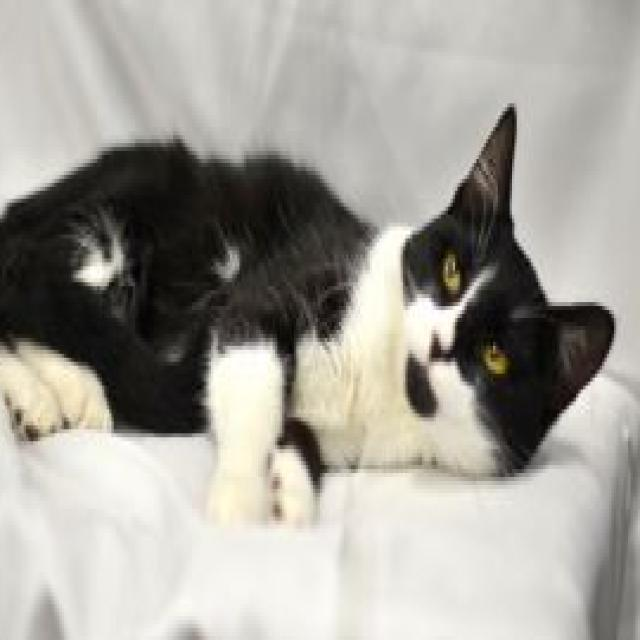Tuxedo: (0, 95, 619, 533)
